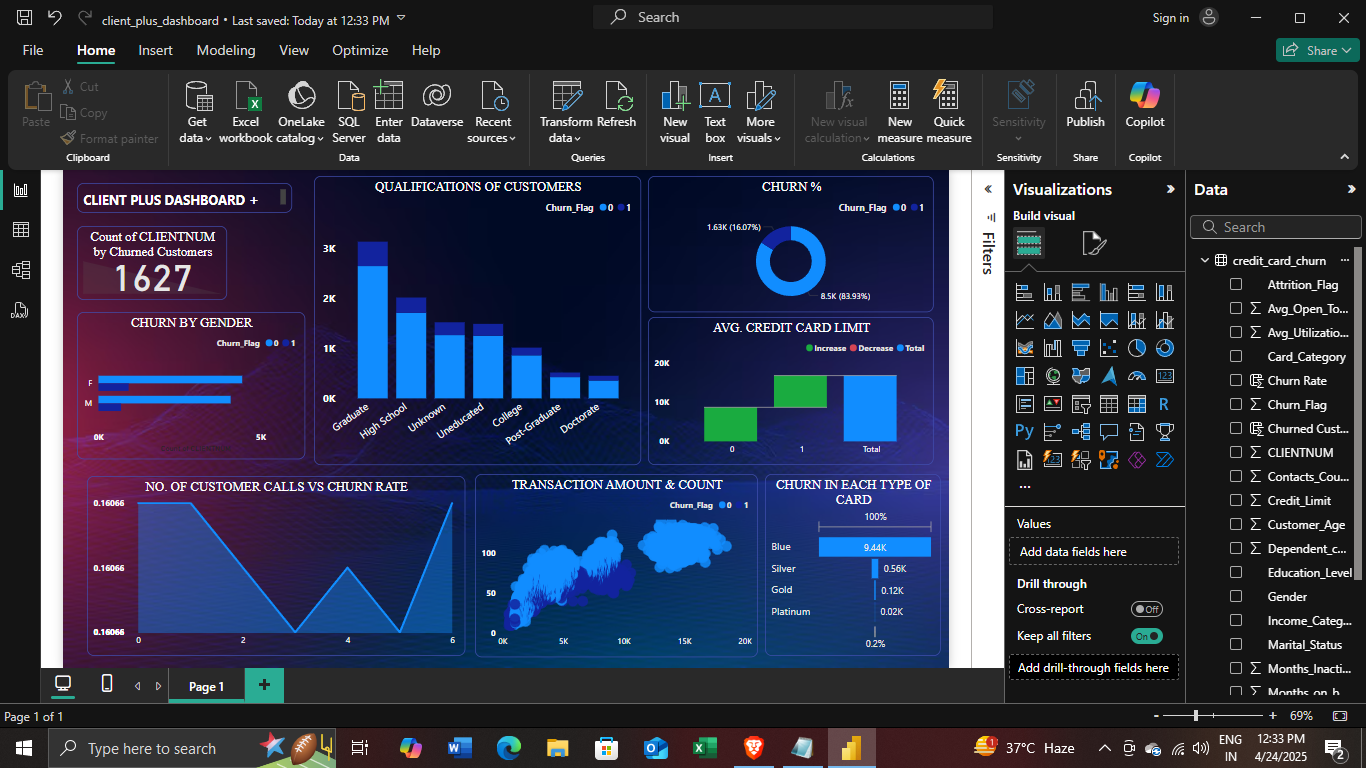

The dashboard page shown, as its layout file describes it:
{"tool":"powerbi","page":{"name":"Page 1","canvas":[1280,720],"ordinal":0},"visuals":[{"type":"donutChart","title":"CHURN %","fields":{"Y":["CountNonNull(credit_card_churn.CLIENTNUM)"],"Category":["credit_card_churn.Churn_Flag"]},"box":[845.8,8.7,413.5,196.6],"z":0},{"type":"columnChart","title":"QUALIFICATIONS OF CUSTOMERS","fields":{"Category":["credit_card_churn.Education_Level"],"Y":["Count(credit_card_churn.CLIENTNUM)"],"Series":["credit_card_churn.Churn_Flag"]},"box":[362.9,8.7,472.8,417.8],"z":1003},{"type":"lineChart","title":"NO. OF CUSTOMER CALLS VS CHURN RATE","fields":{"Category":["credit_card_churn.Contacts_Count_12_mon"],"Y":["Avg(credit_card_churn.Churn Rate)"]},"box":[34.7,442.4,546.5,260.2],"z":1004},{"type":"scatterChart","title":"TRANSACTION AMOUNT & COUNT","fields":{"Series":["credit_card_churn.Churn_Flag"],"Size":["CountNonNull(credit_card_churn.Avg_Open_To_Buy)"],"X":["credit_card_churn.Total_Trans_Amt"],"Y":["credit_card_churn.Total_Trans_Ct"]},"box":[595.7,439.5,409.2,264.6],"z":1006},{"type":"card","fields":{"Values":["CountNonNull(credit_card_churn.CLIENTNUM)"]},"box":[49.2,120,297.8,115.7],"z":1008},{"type":"kpi","fields":{"Indicator":["CountNonNull(credit_card_churn.CLIENTNUM)"],"TrendLine":["credit_card_churn.Churned Customers"]},"box":[108.4,8.7,241.4,98.3],"z":1010},{"type":"clusteredBarChart","title":"CHURN BY GENDER","fields":{"Category":["credit_card_churn.Gender"],"Series":["credit_card_churn.Churn_Flag"],"Y":["CountNonNull(credit_card_churn.CLIENTNUM)"]},"box":[20.2,245.8,329.6,185.1],"z":1011},{"type":"waterfallChart","title":"AVG. CREDIT CARD LIMIT ","fields":{"Category":["credit_card_churn.Churn_Flag"],"Y":["Avg(credit_card_churn.Credit_Limit)"]},"box":[845.8,212.5,413.5,214],"z":1012},{"type":"funnel","title":"CHURN IN EACH TYPE OF CARD ","fields":{"Category":["credit_card_churn.Card_Category","credit_card_churn.Churn_Flag"],"Y":["Count(credit_card_churn.CLIENTNUM)"]},"box":[1014.9,439.5,254.5,263.1],"z":1013},{"type":"textbox","box":[4.3,23.1,91.1,44.8],"z":1014},{"type":"textbox","box":[4.3,72.3,31.8,105.5],"z":1015}]}

Visuals, with their boxes on the page's 1280x720 design canvas (x1, y1, x2, y2). These are canvas units, not pixel positions in the 1366x768 screenshot, which may show the page scaled, cropped or inside an application window:
"CHURN %" donutChart: detection(846, 9, 1259, 205)
"QUALIFICATIONS OF CUSTOMERS" columnChart: detection(363, 9, 836, 426)
"NO. OF CUSTOMER CALLS VS CHURN RATE" lineChart: detection(35, 442, 581, 703)
"TRANSACTION AMOUNT & COUNT" scatterChart: detection(596, 440, 1005, 704)
card - CountNonNull(credit_card_churn.CLIENTNUM): detection(49, 120, 347, 236)
kpi - CountNonNull(credit_card_churn.CLIENTNUM) x credit_card_churn.Churned Customers: detection(108, 9, 350, 107)
"CHURN BY GENDER" clusteredBarChart: detection(20, 246, 350, 431)
"AVG. CREDIT CARD LIMIT " waterfallChart: detection(846, 212, 1259, 426)
"CHURN IN EACH TYPE OF CARD " funnel: detection(1015, 440, 1269, 703)
textbox: detection(4, 23, 95, 68)
textbox: detection(4, 72, 36, 178)
